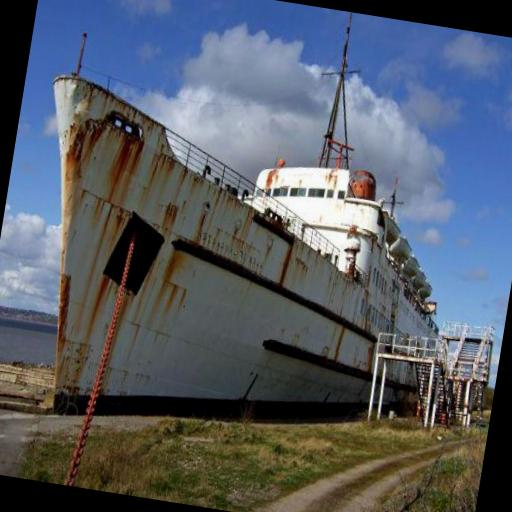segmentation: (97, 134, 141, 201), (51, 274, 71, 380), (159, 249, 188, 303), (159, 201, 178, 234), (280, 244, 292, 284), (262, 166, 278, 189), (128, 146, 140, 174), (166, 287, 176, 307)
